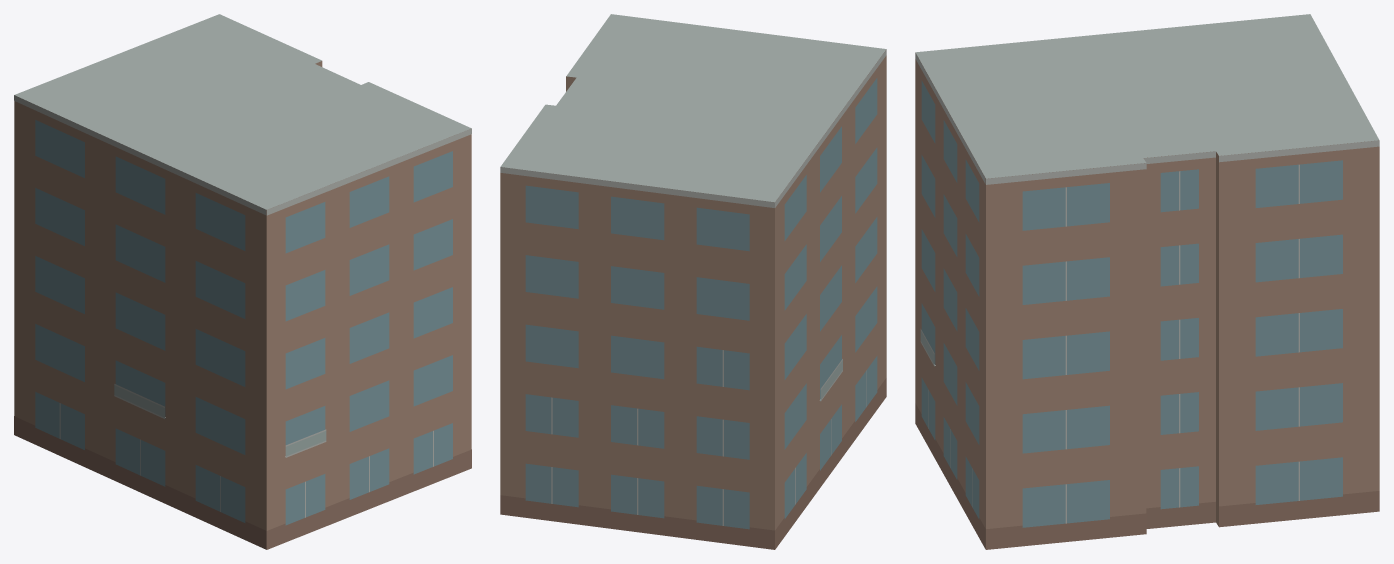
The model's file is survey-upis-32610099.glb.
3 renders of one model, left to right at view 1: azimuth 30°, elevation 25°; view 2: azimuth 150°, elevation 25°; view 3: azimuth 270°, elevation 25°, orthographic. The views are drawn at different scales.
Parts seen in each view (by area): view 1: survey-upis-32610099.tmp; view 2: survey-upis-32610099.tmp; view 3: survey-upis-32610099.tmp.
Part boxes in pixels (box(x1,y1,x2,y2)): survey-upis-32610099.tmp: box(14, 14, 471, 549); survey-upis-32610099.tmp: box(500, 14, 886, 549); survey-upis-32610099.tmp: box(915, 14, 1379, 549).
Bounding box in the file's own units: 13.71 × 14.4 × 16.33.
